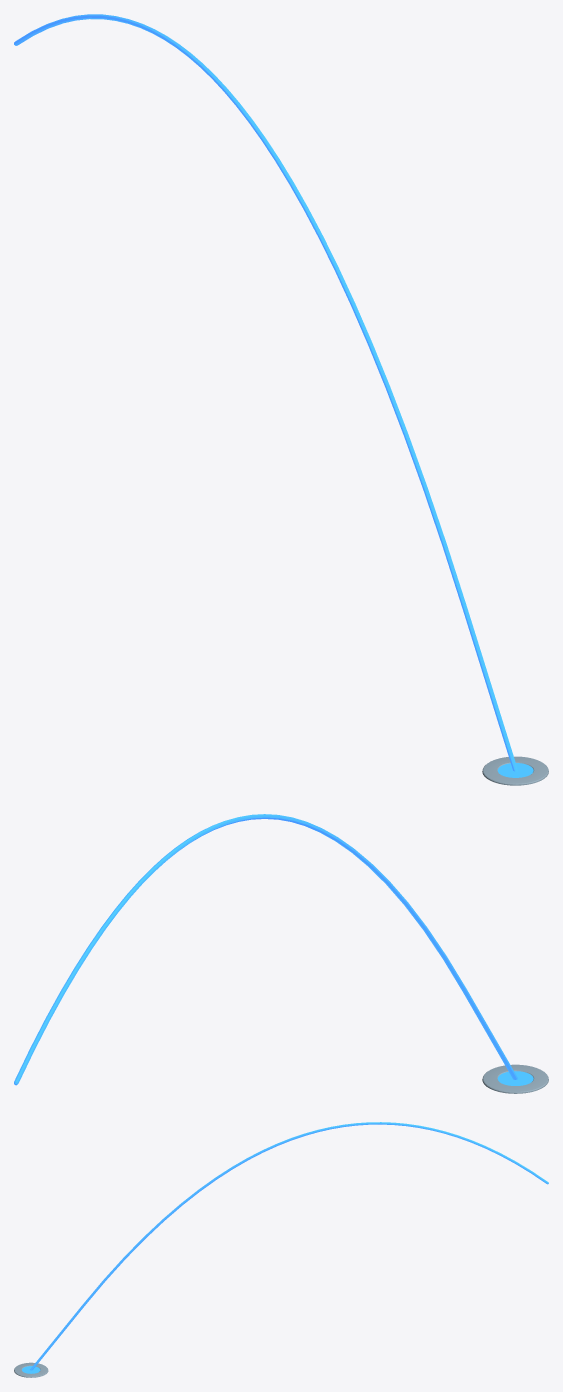
The model's file is teleport-arc-adfed4.glb.
3 renders of one model, top to bottom at view 1: azimuth 30°, elevation 25°; view 2: azimuth 150°, elevation 25°; view 3: azimuth 270°, elevation 25°, orthographic. The views are drawn at different scales.
Parts seen in each view (by area): view 1: beam, disc; view 2: beam, disc; view 3: beam, disc.
Boxes of the visible parts, left/top/right/bottom form: beam: left=14, top=14, right=533, bottom=777; disc: left=482, top=756, right=548, bottom=785; beam: left=14, top=814, right=533, bottom=1085; disc: left=482, top=1064, right=548, bottom=1093; beam: left=22, top=1122, right=548, bottom=1373; disc: left=14, top=1362, right=48, bottom=1377.
Bounding box in the file's own units: 0.2 × 1.59 × 3.11.
